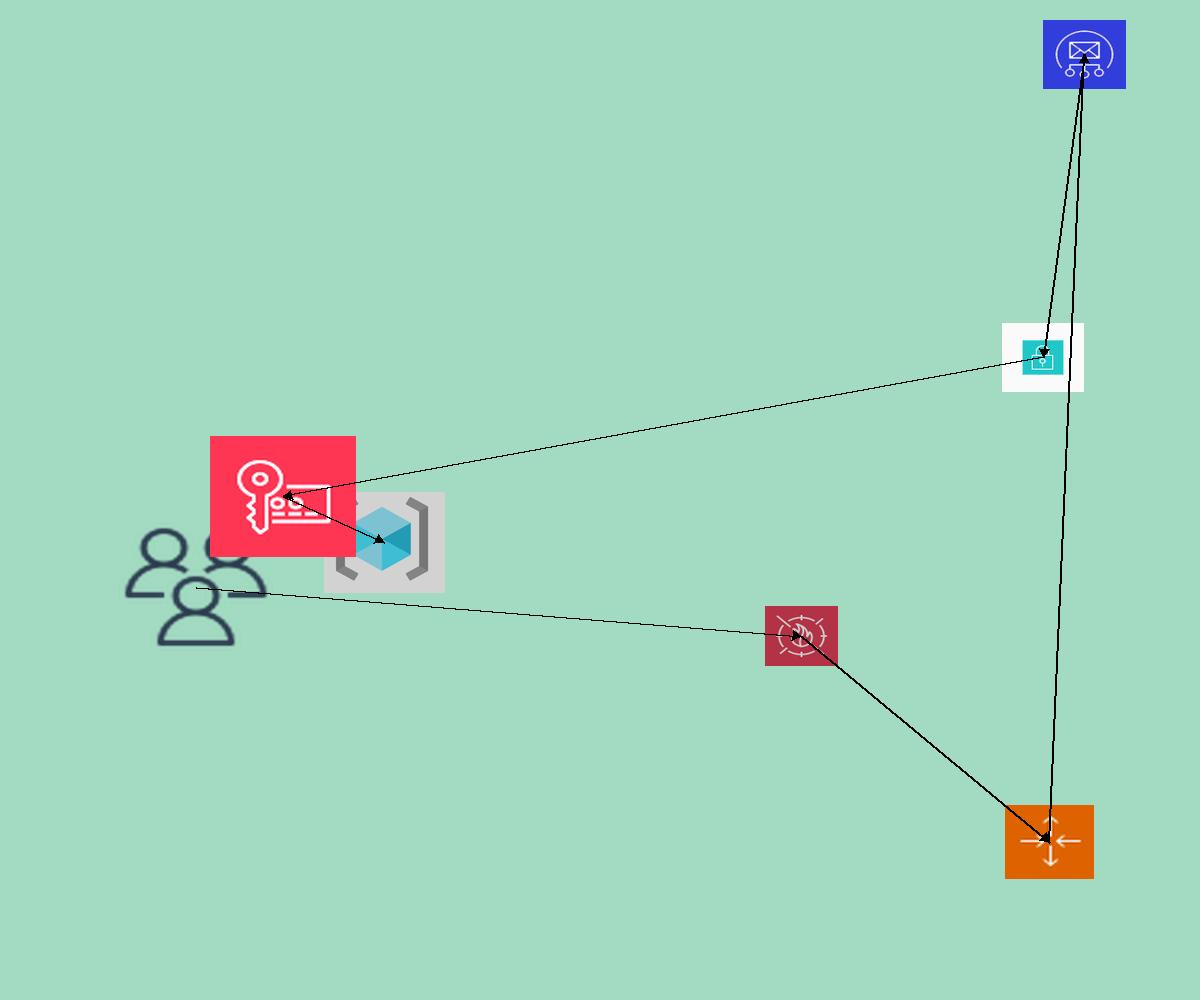AWS-Key-Management-Service: (210, 436, 356, 557)
AWS-Private-subnet: (1002, 323, 1084, 392)
AWS-Res_Users: (119, 523, 273, 651)
AWS-Scaling-group: (1005, 805, 1094, 879)
AWS-Simple-Email-Service: (1043, 20, 1126, 89)
AWS-WAF: (765, 606, 838, 666)
Azure_resource_group: (324, 492, 445, 593)
